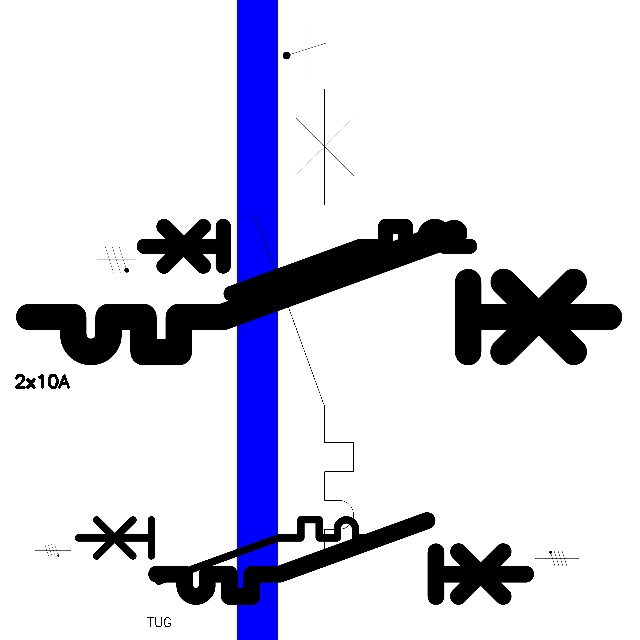interruptor_termomagnetico: (14, 218, 623, 367), (243, 76, 366, 577), (147, 511, 535, 606), (135, 218, 477, 301), (70, 512, 385, 589)
